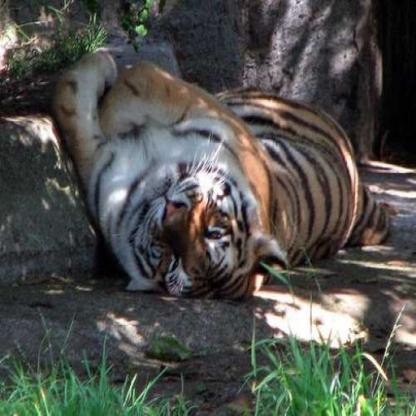Tiger: (62, 41, 402, 310)
